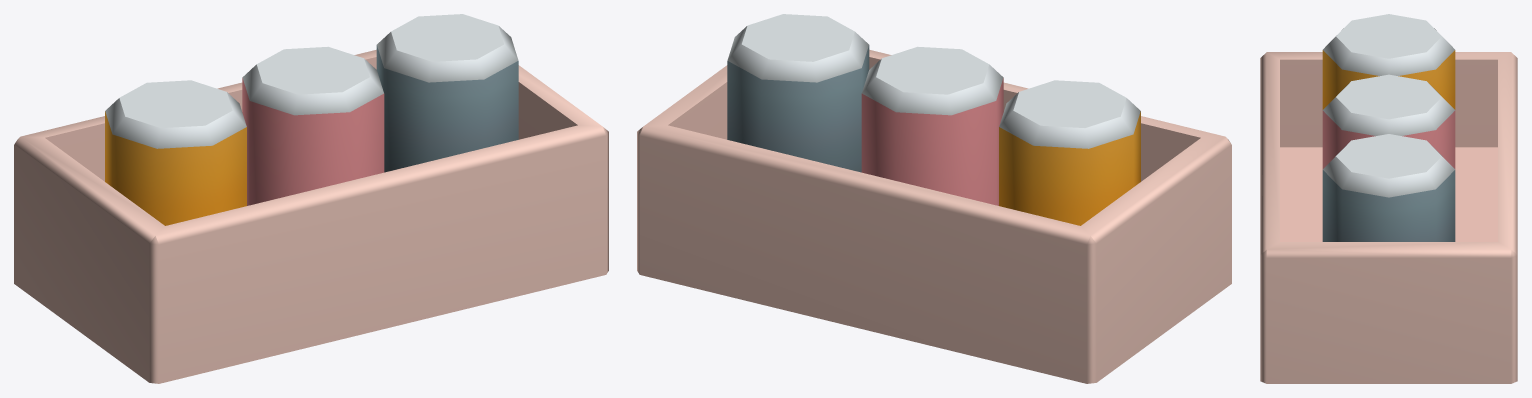
Rendered from Decor_Kedo.fbx.
3 renders of one model, left to right at view 1: azimuth 30°, elevation 25°; view 2: azimuth 150°, elevation 25°; view 3: azimuth 270°, elevation 25°, orthographic. The views are drawn at different scales.
Visible parts, largest first — view 1: Decor_Kedo; view 2: Decor_Kedo; view 3: Decor_Kedo.
Boxes of the visible parts, x1,y1,x2,y2 form: Decor_Kedo: [14, 14, 608, 383]; Decor_Kedo: [637, 14, 1231, 383]; Decor_Kedo: [1260, 14, 1517, 383].
Size of the model in its own units: 113 by 48.41 by 60.59.
